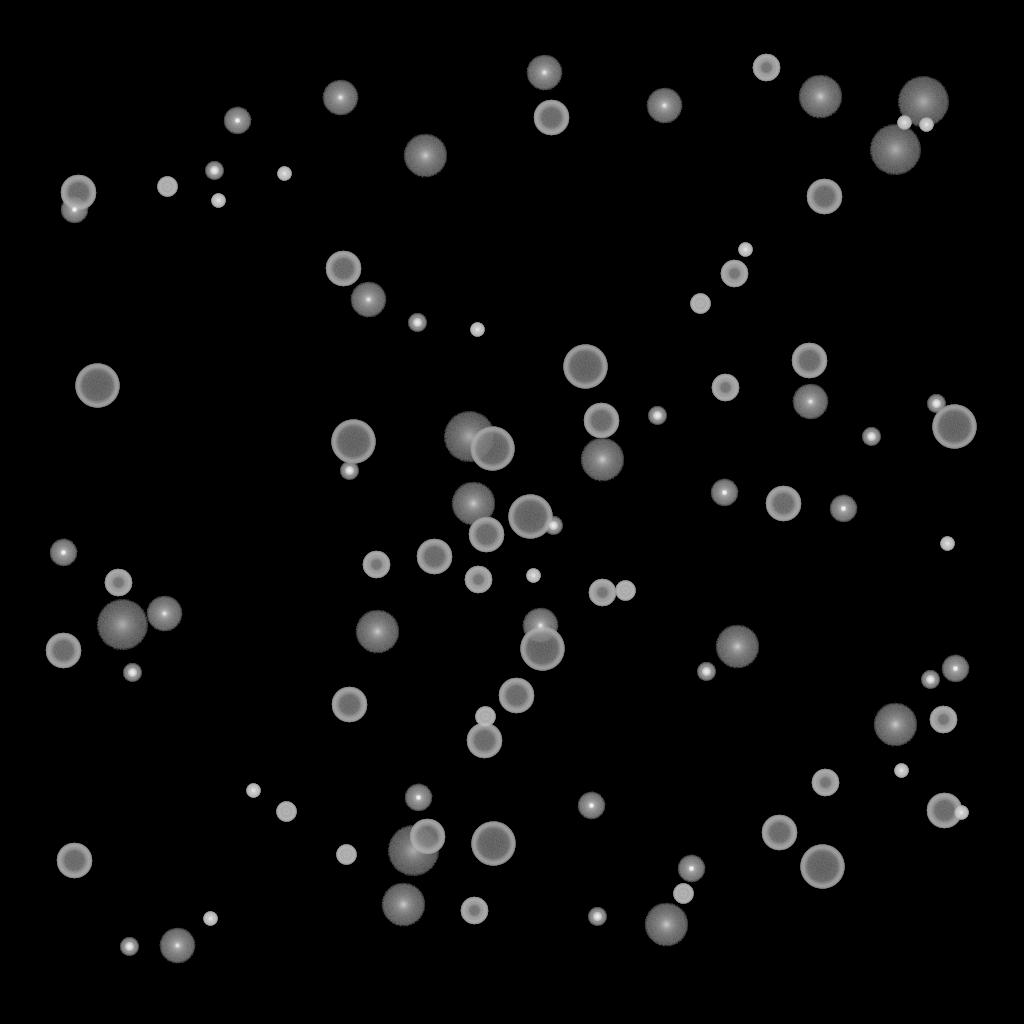depth:-10: (577, 792, 605, 820), (710, 479, 738, 507), (60, 196, 88, 224), (677, 855, 705, 883), (49, 539, 77, 567), (223, 107, 251, 135), (404, 784, 432, 812), (941, 655, 969, 683), (829, 495, 857, 523)
depth:-20: (921, 671, 939, 689), (862, 428, 880, 446), (340, 462, 358, 480), (648, 407, 666, 425), (588, 908, 606, 926), (123, 664, 141, 682), (697, 663, 715, 681), (408, 314, 426, 332), (927, 395, 945, 413), (205, 162, 223, 180), (120, 938, 138, 956), (544, 517, 562, 535)
depth:-30: (211, 194, 225, 208), (940, 537, 954, 551), (277, 167, 291, 181), (894, 764, 908, 778), (738, 243, 752, 257), (470, 323, 484, 337), (526, 569, 540, 583), (897, 116, 911, 130), (246, 784, 260, 798), (203, 912, 217, 926), (954, 806, 968, 820), (919, 118, 933, 132)
depth:-40: (673, 884, 693, 904), (276, 802, 296, 822), (690, 294, 710, 314), (615, 581, 635, 601), (336, 845, 356, 865), (475, 707, 495, 727), (157, 177, 177, 197)
depth:-50: (752, 54, 780, 82), (929, 706, 957, 734), (711, 374, 739, 402), (720, 260, 748, 288), (464, 566, 492, 594), (588, 579, 616, 607), (811, 769, 839, 797), (362, 551, 390, 579), (104, 569, 132, 597), (460, 897, 488, 925)
depth:-60: (926, 793, 962, 829), (45, 633, 81, 669), (806, 179, 842, 215), (468, 517, 504, 553), (325, 251, 361, 287), (466, 723, 502, 759), (331, 687, 367, 723), (533, 100, 569, 136), (761, 815, 797, 851), (56, 843, 92, 879), (791, 343, 827, 379), (60, 175, 96, 211), (416, 539, 452, 575), (583, 403, 619, 439), (765, 486, 801, 522), (498, 678, 534, 714), (409, 819, 445, 855)
depth:-70: (520, 627, 564, 671), (800, 845, 844, 889), (470, 427, 514, 471), (471, 822, 515, 866), (75, 364, 119, 408), (563, 345, 607, 389), (331, 420, 375, 464), (932, 405, 976, 449), (508, 495, 552, 539)
depth:0: (646, 88, 682, 124), (322, 80, 358, 116), (522, 608, 558, 644), (146, 596, 182, 632), (350, 282, 386, 318), (159, 928, 195, 964), (526, 55, 562, 91), (792, 384, 828, 420)
depth:10: (798, 75, 842, 119), (355, 610, 399, 654), (403, 134, 447, 178), (873, 703, 917, 747), (451, 482, 495, 526), (644, 903, 688, 947), (381, 883, 425, 927), (580, 438, 624, 482), (715, 625, 759, 669)
depth:20: (387, 826, 439, 876), (869, 125, 921, 175), (443, 412, 495, 462), (96, 600, 148, 650), (897, 77, 949, 127)
